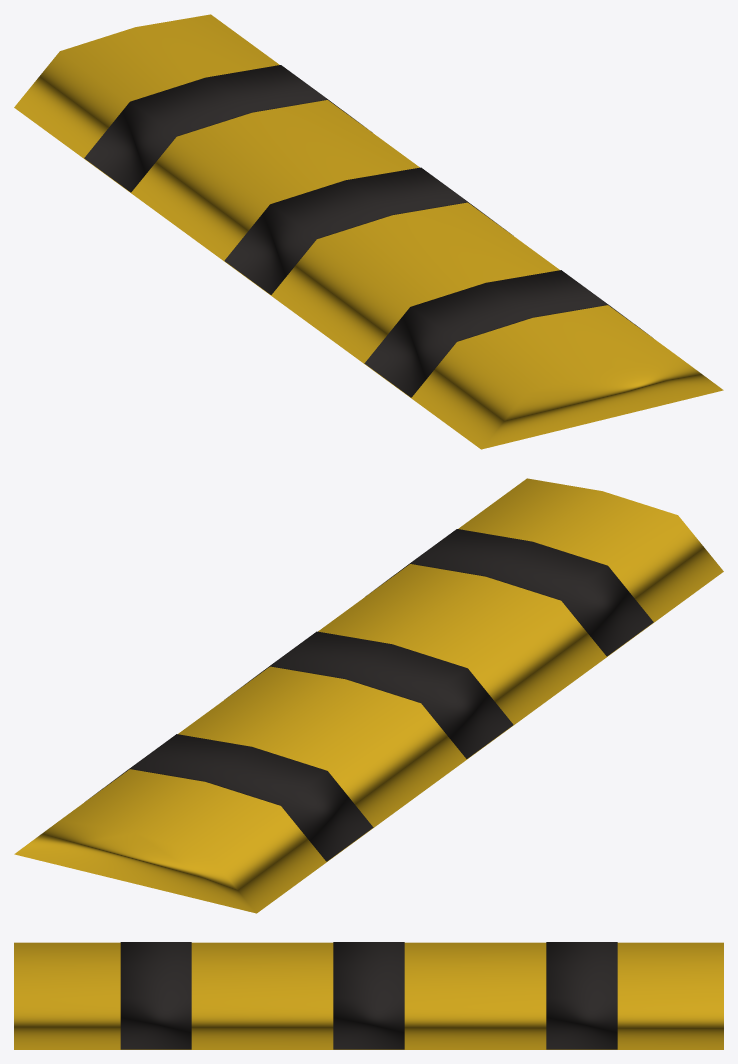
The model's file is speed_bump.glb.
The picture shows the model from 3 angles, top to bottom: view 1: azimuth 30°, elevation 25°; view 2: azimuth 150°, elevation 25°; view 3: azimuth 270°, elevation 25°; orthographic projection. The views are drawn at different scales.
Parts seen in each view (by area): view 1: speed_bump; view 2: speed_bump; view 3: speed_bump.
Boxes of the visible parts, x1,y1,x2,y2 form: speed_bump: (14,14,723,449); speed_bump: (14,478,723,913); speed_bump: (14,942,723,1049).
Bounding box in the file's own units: 0.9 × 0.183 × 3.
